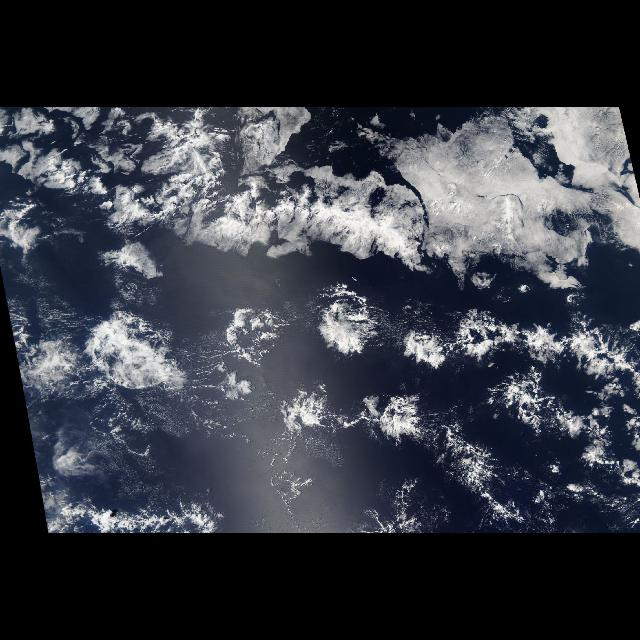Flower: (8, 281, 640, 533)
